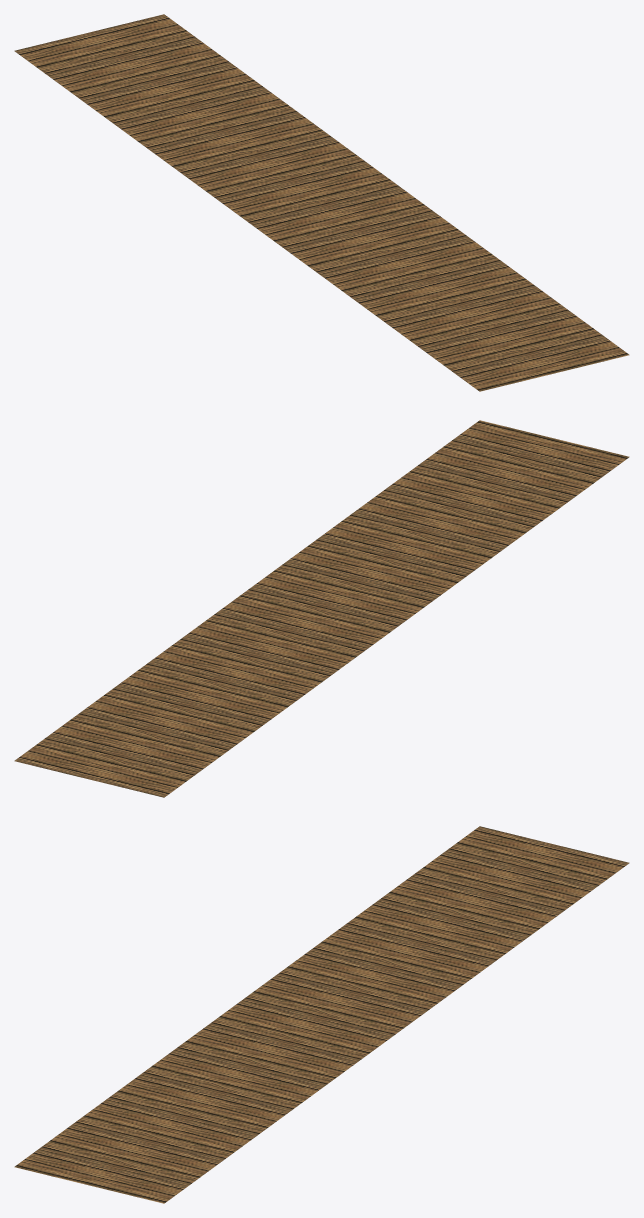
The model's file is LAKETOWN_EXTERIOR_PS_LT_PIER_WOOD03.fbx.
The picture shows the model from 3 angles, top to bottom: view 1: azimuth 30°, elevation 25°; view 2: azimuth 150°, elevation 25°; view 3: azimuth 330°, elevation 25°; orthographic projection.
Parts seen in each view (by area): view 1: LAKETOWN_EXTERIOR_PS_LT_PIER_WOOD03; view 2: LAKETOWN_EXTERIOR_PS_LT_PIER_WOOD03; view 3: LAKETOWN_EXTERIOR_PS_LT_PIER_WOOD03.
Boxes of the visible parts, x1=… form: LAKETOWN_EXTERIOR_PS_LT_PIER_WOOD03: x1=14, y1=14, x2=629, y2=391; LAKETOWN_EXTERIOR_PS_LT_PIER_WOOD03: x1=14, y1=420, x2=629, y2=797; LAKETOWN_EXTERIOR_PS_LT_PIER_WOOD03: x1=14, y1=826, x2=629, y2=1203.
Size of the model in its own units: 49936 by 0.0612 by 268041.
Materials: 1 (1 with a texture image).
